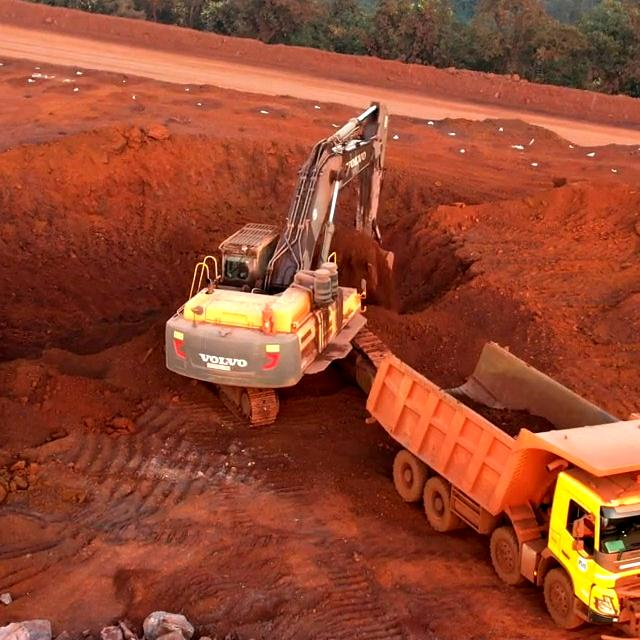Dumper truck: (456, 418, 640, 595)
Excavator: (179, 266, 337, 382)
